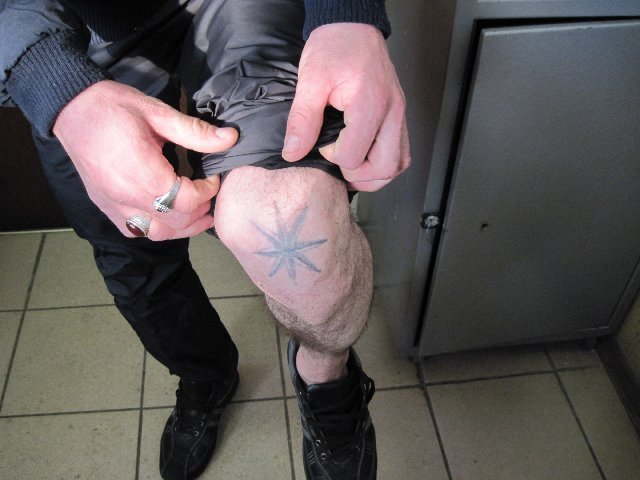tatu4_zvezda: (243, 197, 339, 289)
